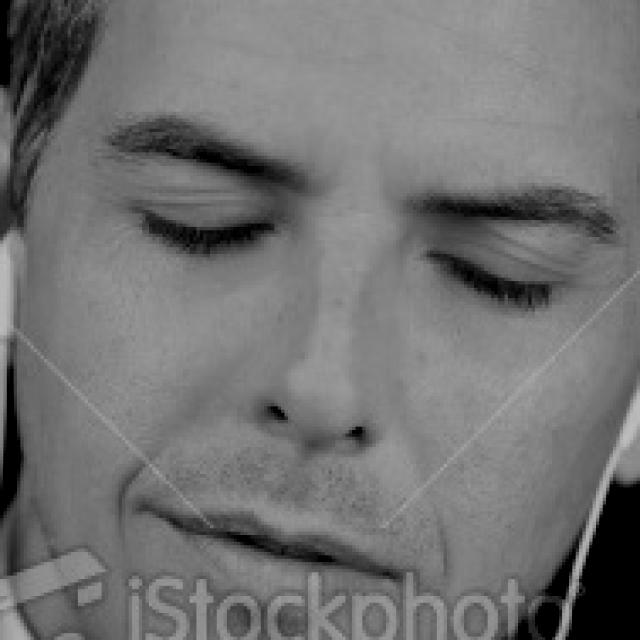real: (81, 3, 607, 577), (114, 160, 588, 316)
